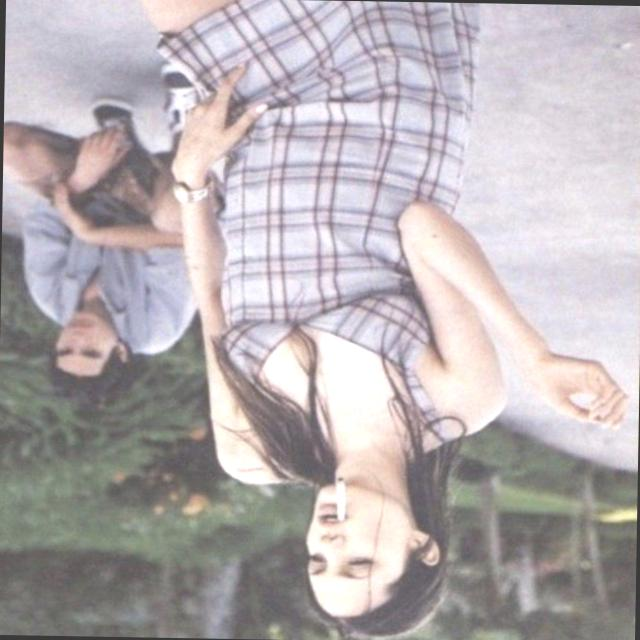cigarette: (320, 472, 355, 526)
